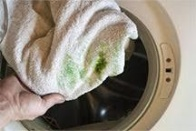earth: (93, 50, 108, 75), (63, 56, 75, 79), (79, 68, 87, 78)
